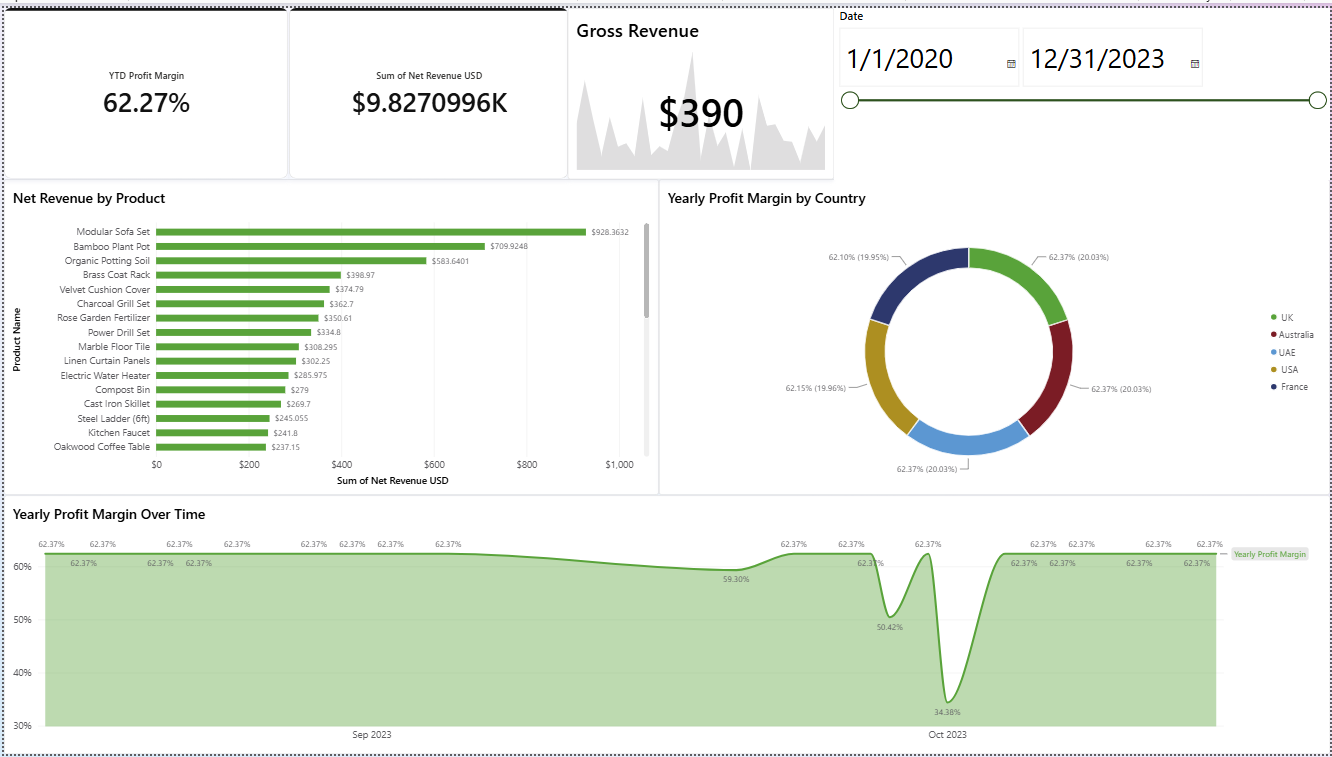

The page's visual inventory and layout, read from the dashboard file:
{"tool":"powerbi","page":{"name":"Profit Overview","canvas":[1920,1080],"ordinal":1},"visuals":[{"type":"clusteredBarChart","title":"Net Revenue by Product","fields":{"Category":["Sales in USD.Product Name"],"Y":["Sum(Sales in USD.Net Revenue USD)"]},"box":[0,247.6,947.6,457.1],"z":0},{"type":"donutChart","title":"Yearly Profit Margin by Country","fields":{"Category":["Sales in USD.Country Name"],"Y":["Sales in USD.Yearly Profit Margin"]},"box":[947.6,247.6,971.4,457.1],"z":1},{"type":"areaChart","title":"Yearly Profit Margin Over Time","fields":{"Category":["CalendarTable.Date"],"Y":["Sales in USD.Yearly Profit Margin"]},"box":[0,705.5,1920,374.5],"z":2},{"type":"cardVisual","fields":{"Data":["Sales in USD.YTD Profit Margin"]},"box":[0,0,411.9,247.6],"z":3},{"type":"cardVisual","fields":{"Data":["Sum(Sales in USD.Net Revenue USD)"]},"box":[411.9,0,404.8,247.6],"z":4},{"type":"kpi","title":"Gross Revenue ","fields":{"Indicator":["Sum(Sales in USD.Gross Revenue USD)"],"TrendLine":["CalendarTable.Date"]},"box":[816.7,0,385.7,247.6],"z":5},{"type":"slicer","fields":{"Values":["CalendarTable.Date"]},"box":[1202.4,0,716.7,247.6],"z":6}]}

Visuals, with their boxes in screenshot pixels (x1, y1, x2, y2), scaled from the page's 1920x1080 canvas onto the 1332x757 screenshot:
"Net Revenue by Product" clusteredBarChart: (left=0, top=174, right=657, bottom=494)
"Yearly Profit Margin by Country" donutChart: (left=657, top=174, right=1331, bottom=494)
"Yearly Profit Margin Over Time" areaChart: (left=0, top=495, right=1331, bottom=756)
cardVisual - Sales in USD.YTD Profit Margin: (left=0, top=0, right=286, bottom=174)
cardVisual - Sum(Sales in USD.Net Revenue USD): (left=286, top=0, right=567, bottom=174)
"Gross Revenue " kpi: (left=567, top=0, right=834, bottom=174)
slicer - CalendarTable.Date: (left=834, top=0, right=1331, bottom=174)
